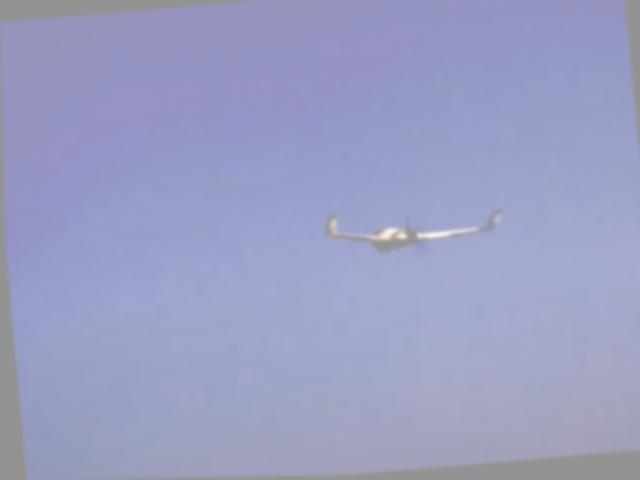iha: (314, 198, 510, 262)
